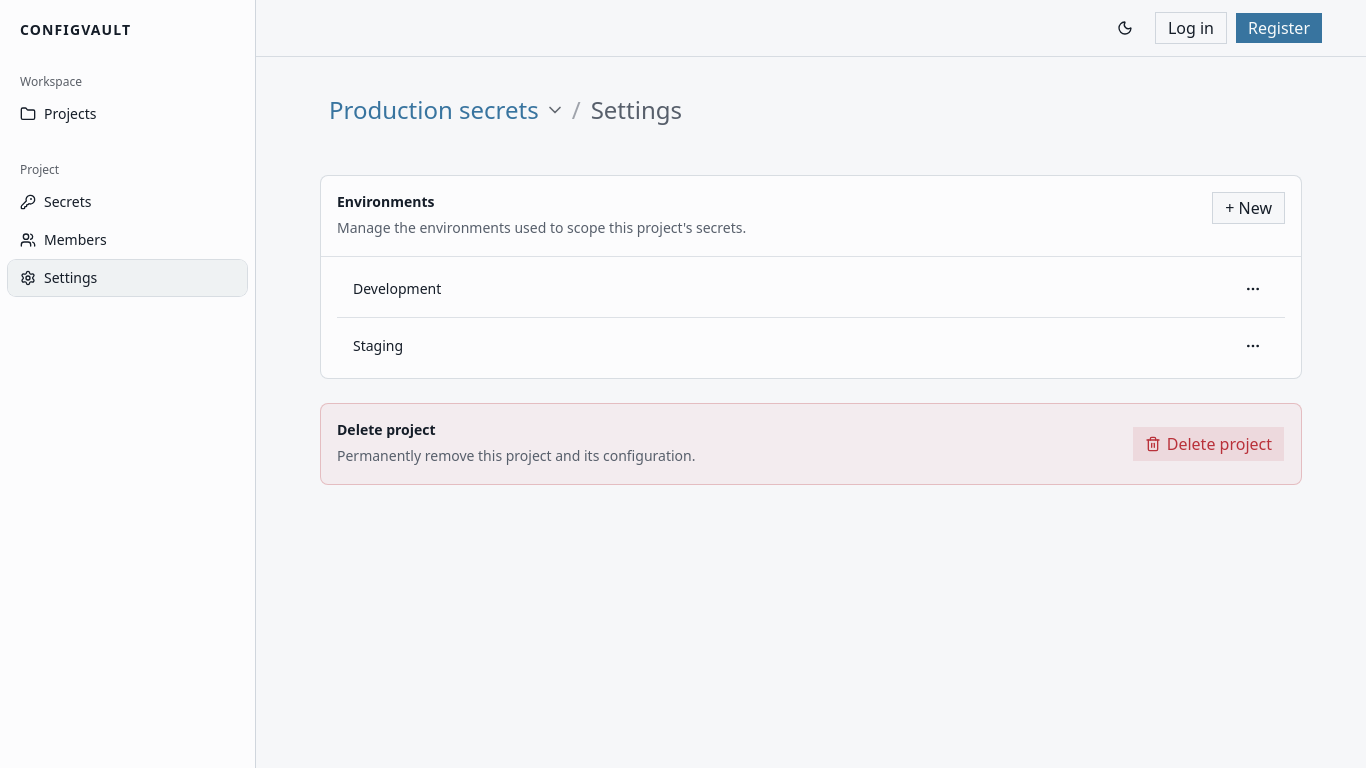
ProjectDetailPage › deletes environments from settings after confirmation
The image size is (1366, 768).
Click the button named "Environment actions for Staging" at (1253, 346), box 1237,330 -> 1269,362
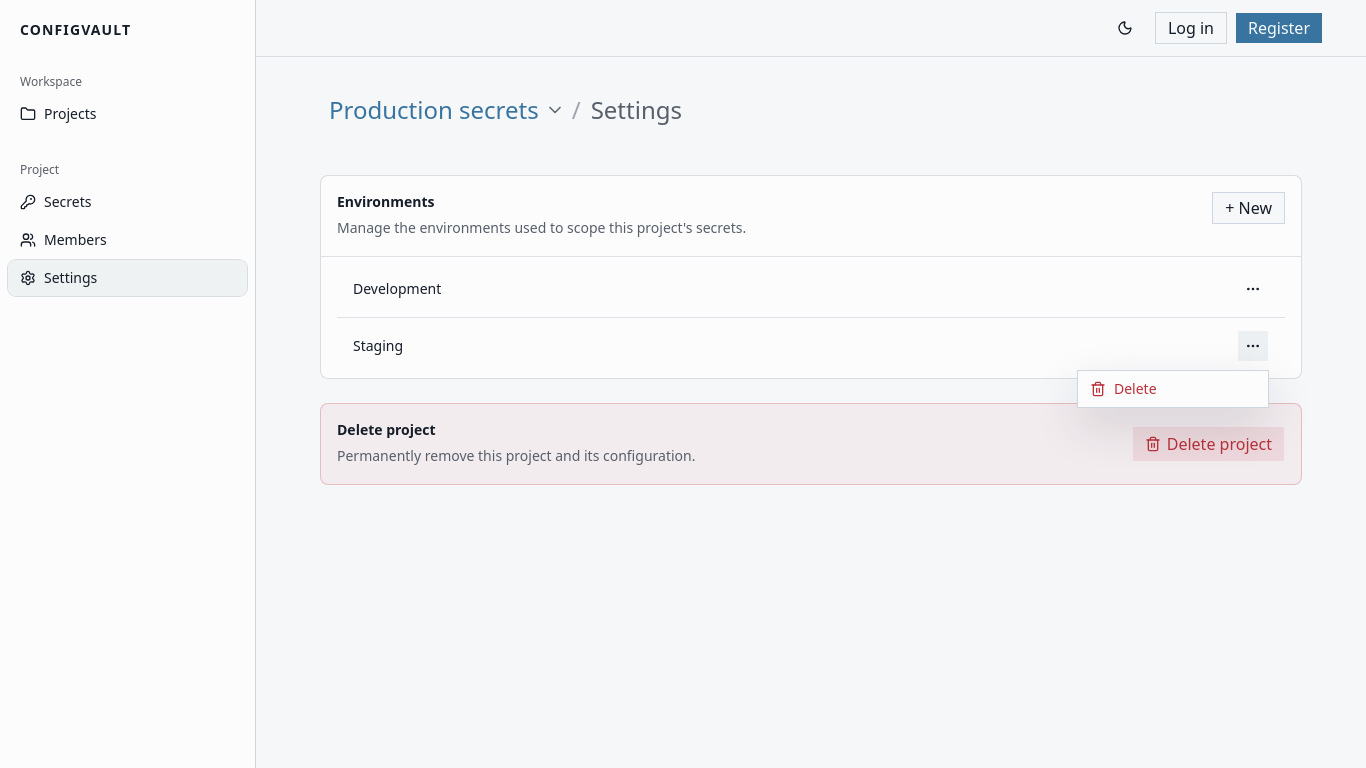
Click the menu item "Delete" at (1123, 388), box 1090,379 -> 1157,398
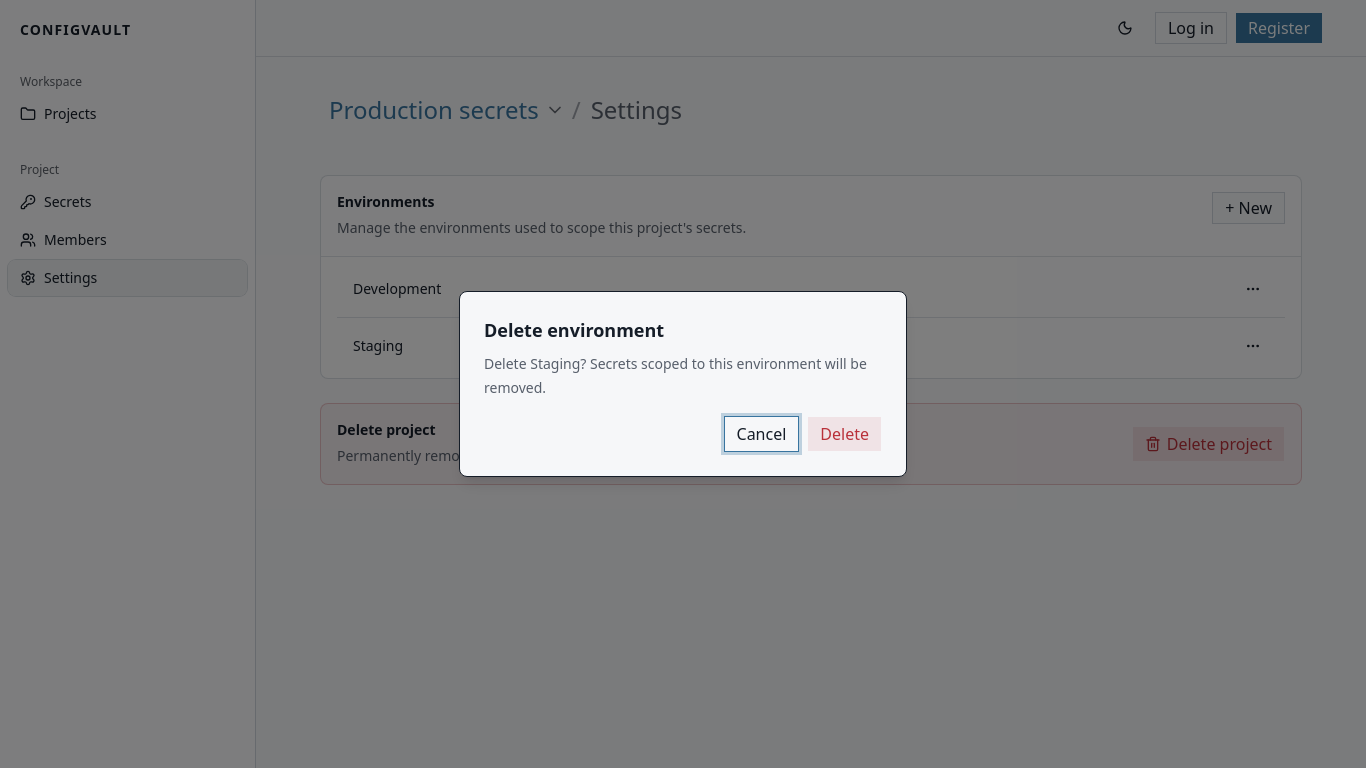
Expected: the dialog "Delete environment" shows "Delete Staging? Secrets scoped to this environment will be removed.", 459,291 -> 907,477
Click the button "Delete" at (845, 434), box 807,416 -> 882,452
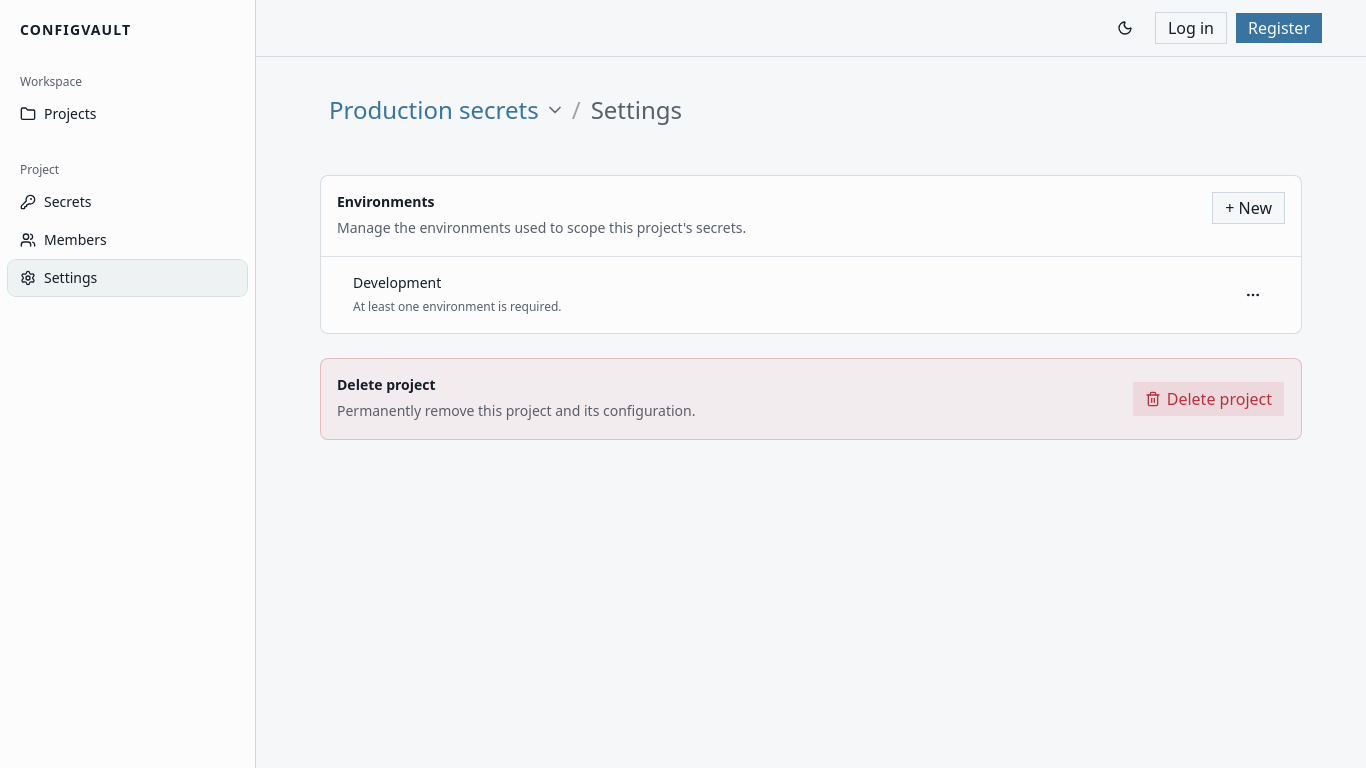
Expected: the text "Staging" is gone
